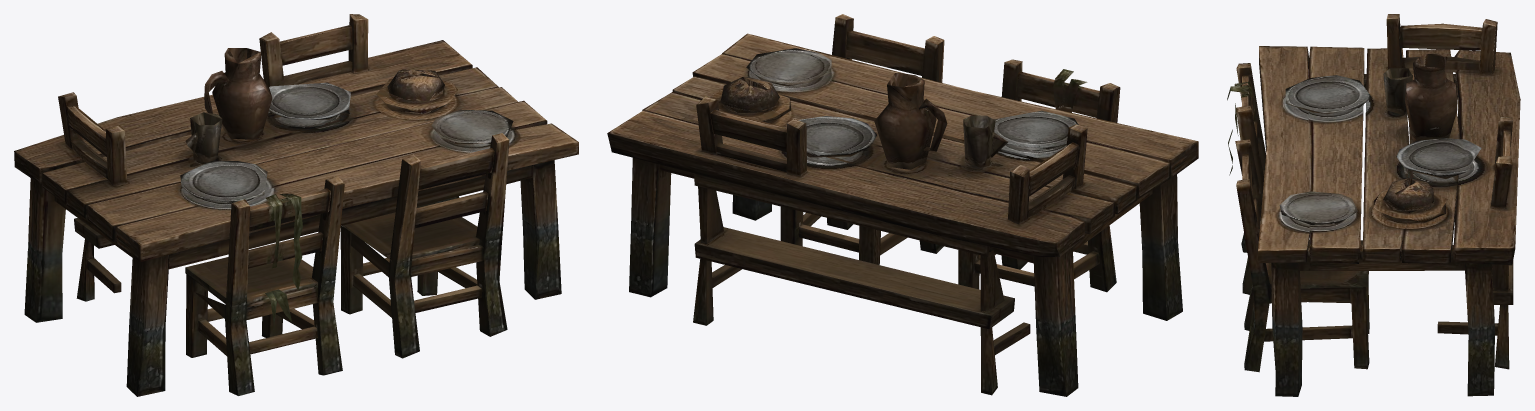
File: act1_extras_v1_flooded_supper_table.glb
3 views of the same model, side by side, from view 1: azimuth 30°, elevation 25°; view 2: azimuth 150°, elevation 25°; view 3: azimuth 270°, elevation 25° (orthographic). The views are drawn at different scales.
Parts seen in each view (by area): view 1: A17_4_flooded_supper_table; view 2: A17_4_flooded_supper_table; view 3: A17_4_flooded_supper_table.
Boxes of the visible parts, x1=… form: A17_4_flooded_supper_table: x1=14, y1=14, x2=578, y2=396; A17_4_flooded_supper_table: x1=607, y1=14, x2=1198, y2=396; A17_4_flooded_supper_table: x1=1227, y1=14, x2=1520, y2=396.
Bounding box in the file's own units: 0.9917 × 0.543 × 0.606.
1 material, 1 textured.
